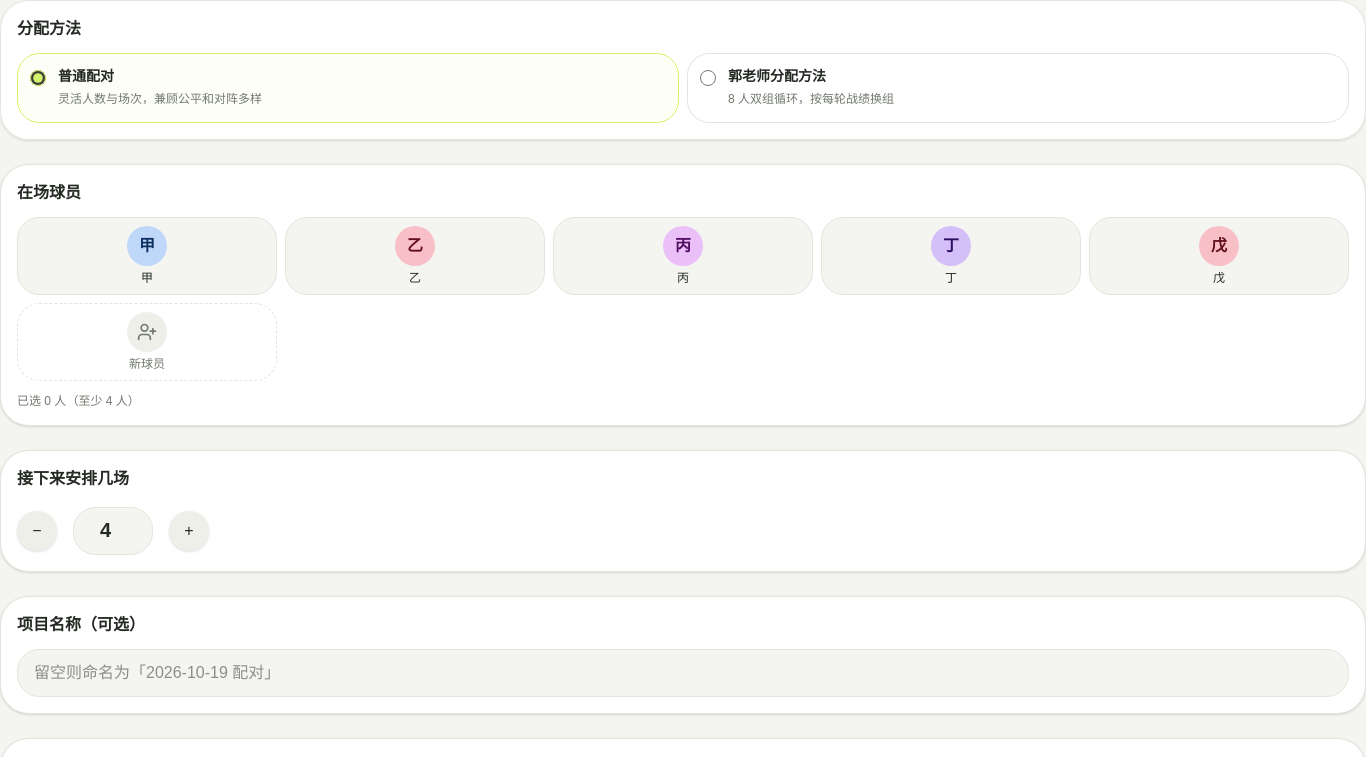
Test case: NewProjectForm（新建配对项目） › 添加目录外新球员：保持操作者身份不变、留在表单并自动勾选
Click the button "新球员" at (147, 342), box [17, 302, 277, 380]
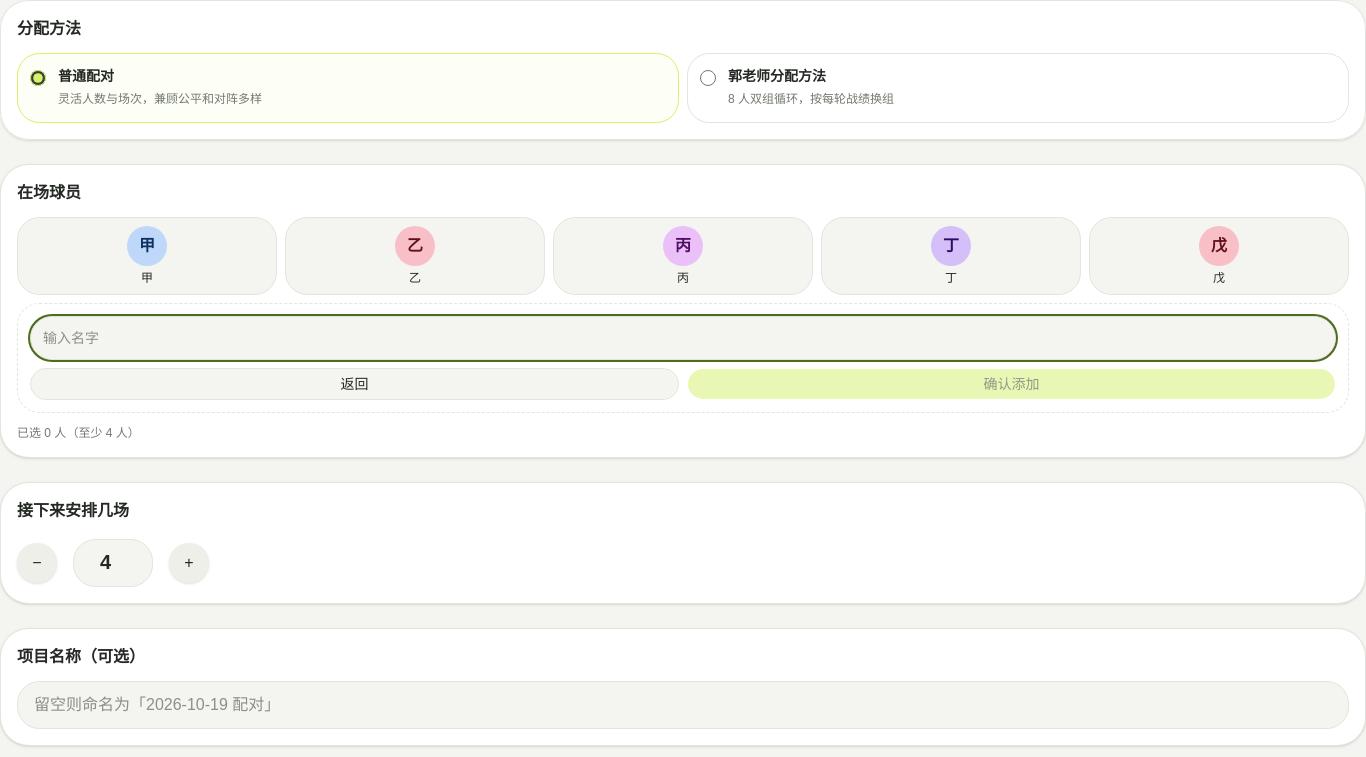
Type "新来的" into the field named "新球员名字" at (683, 338), box [30, 316, 1336, 360]
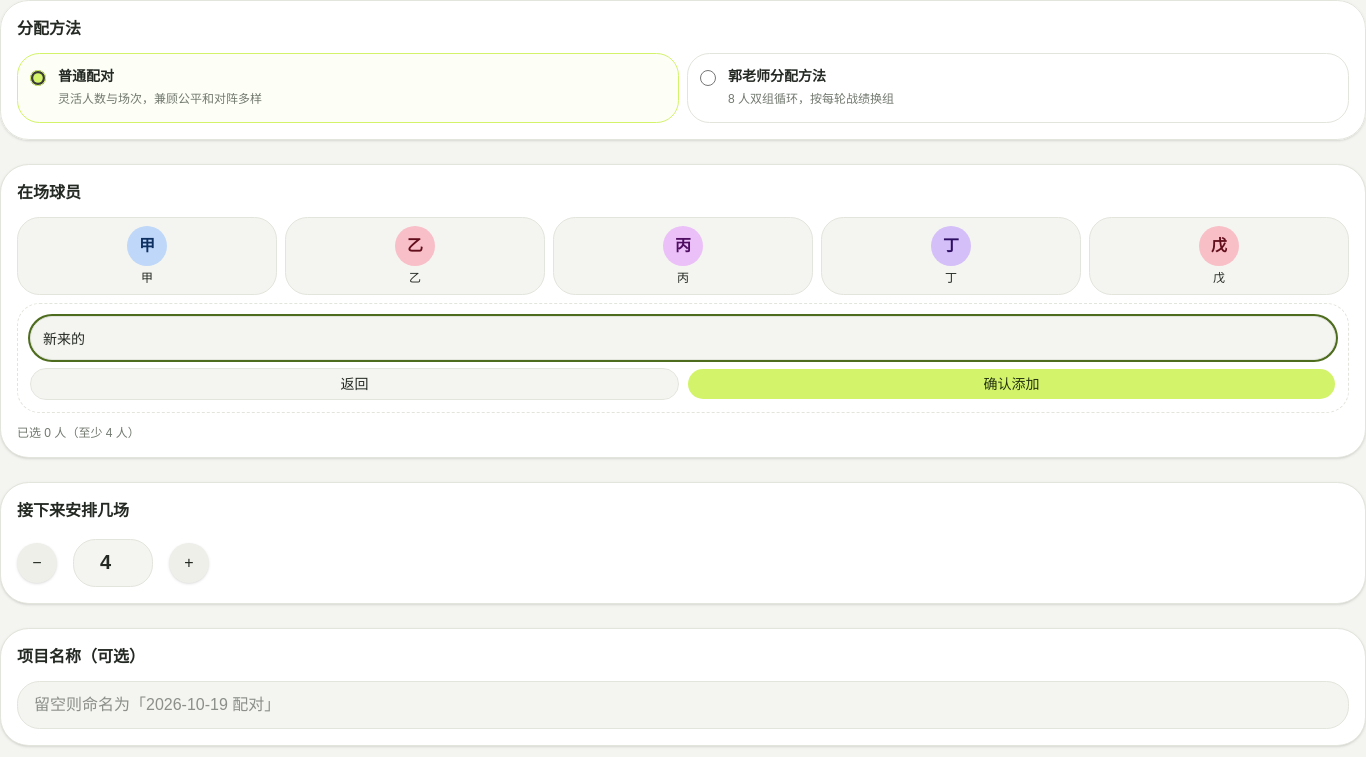
Click the button "确认添加" at (1012, 384), box [687, 368, 1336, 400]
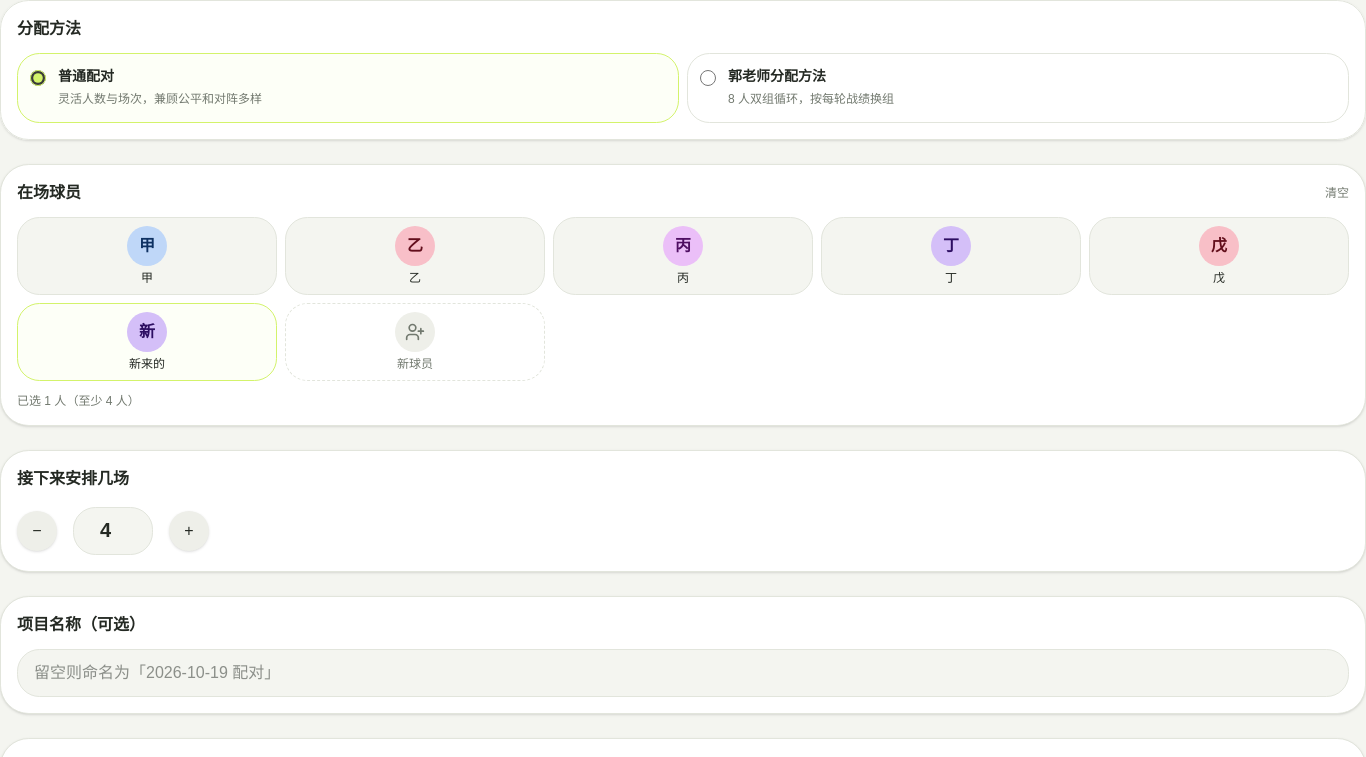
Expected: the button "新 新来的" is shown, [17, 302, 277, 380]
Click the button "甲 甲" at (147, 256), box [17, 216, 277, 294]
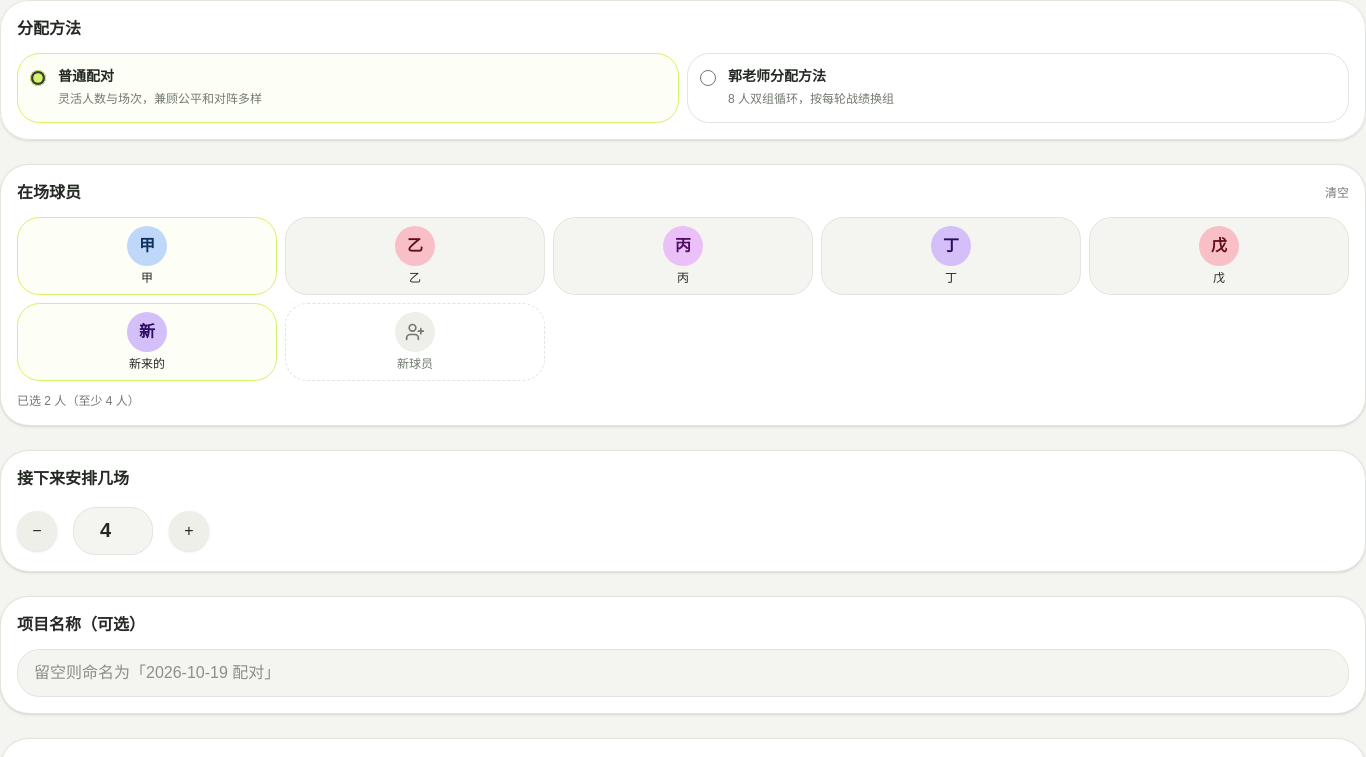
Click the button "乙 乙" at (415, 256), box [285, 216, 545, 294]
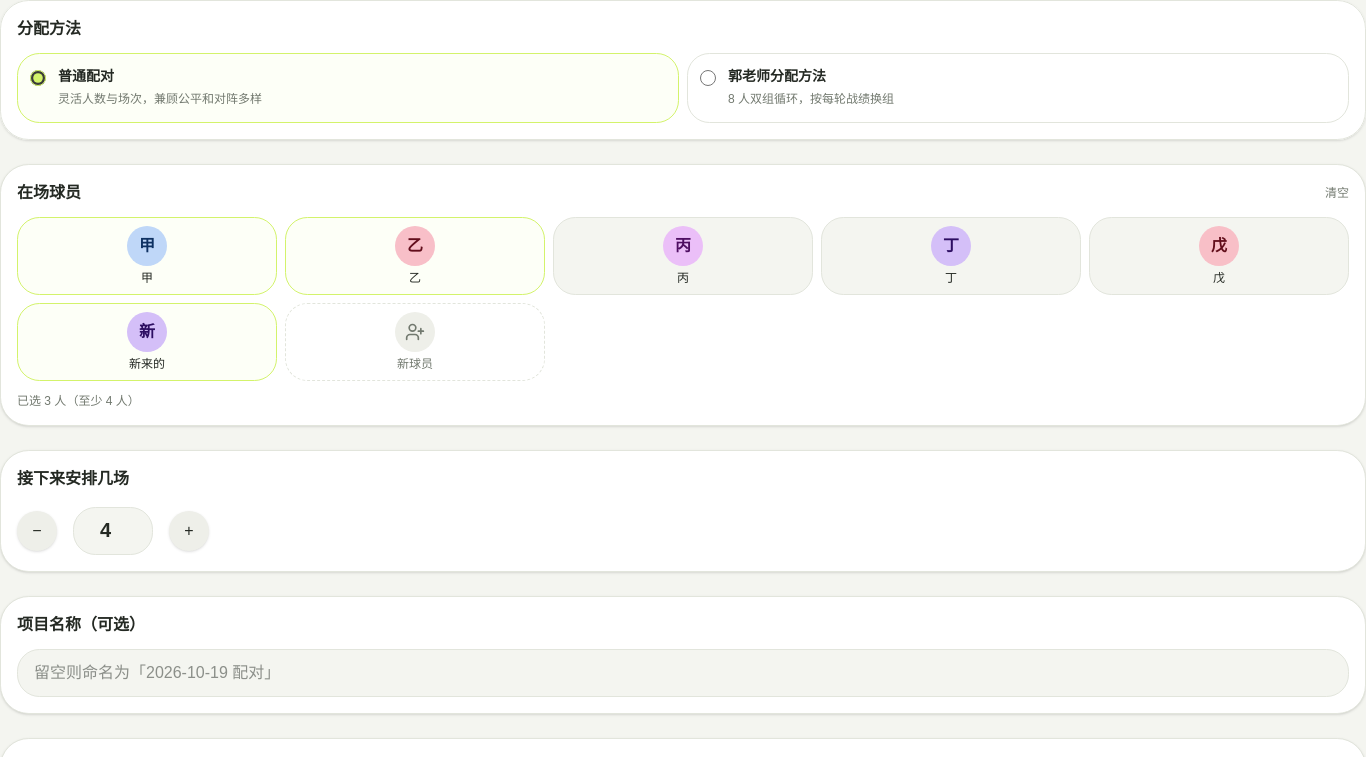
Click the button "丙 丙" at (683, 256), box [553, 216, 813, 294]
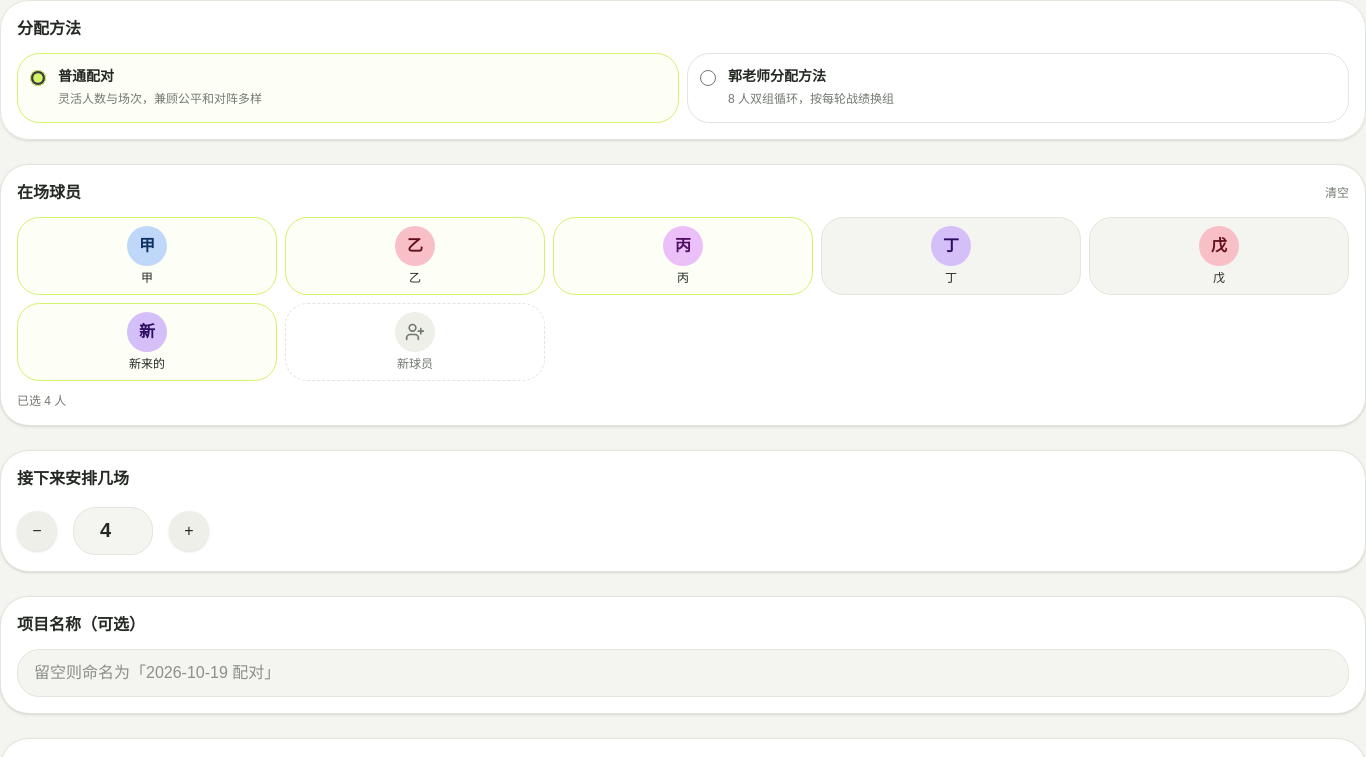
Expected: the text "已选 4 人" is shown, [17, 394, 66, 408]
